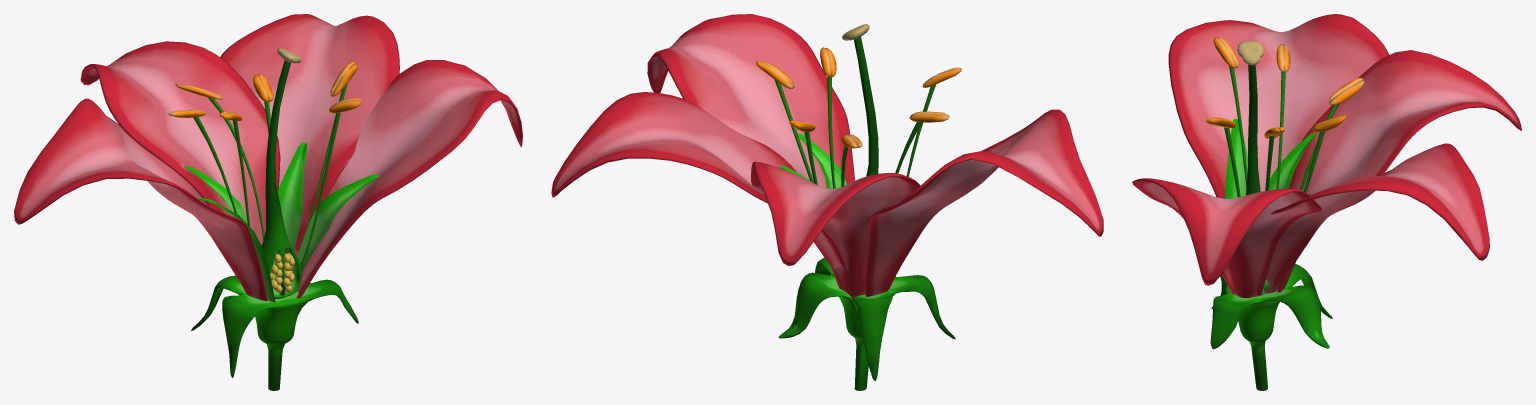
Rendered from modelo-ligero.glb.
The picture shows the model from 3 angles, left to right: view 1: azimuth 30°, elevation 25°; view 2: azimuth 150°, elevation 25°; view 3: azimuth 270°, elevation 25°; orthographic projection. The views are drawn at different scales.
Parts seen in each view (by area): view 1: flower_flower_0; view 2: flower_flower_0; view 3: flower_flower_0.
Part boxes in pixels (left/top/right/bottom): flower_flower_0: left=14, top=14, right=522, bottom=390; flower_flower_0: left=551, top=14, right=1103, bottom=390; flower_flower_0: left=1132, top=14, right=1521, bottom=390.
Bounding box in the file's own units: 2.23 × 1.57 × 1.59.
1 material, 1 textured.
